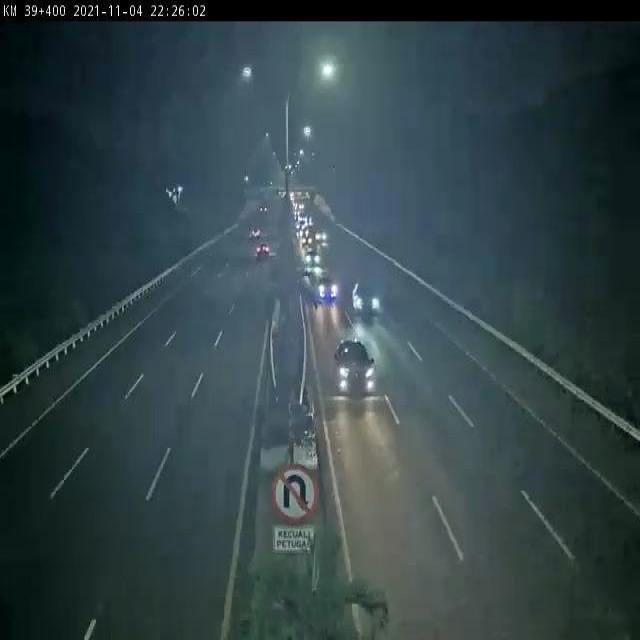car: (331, 340, 384, 409), (352, 267, 381, 328), (315, 268, 345, 315), (306, 245, 321, 271)
